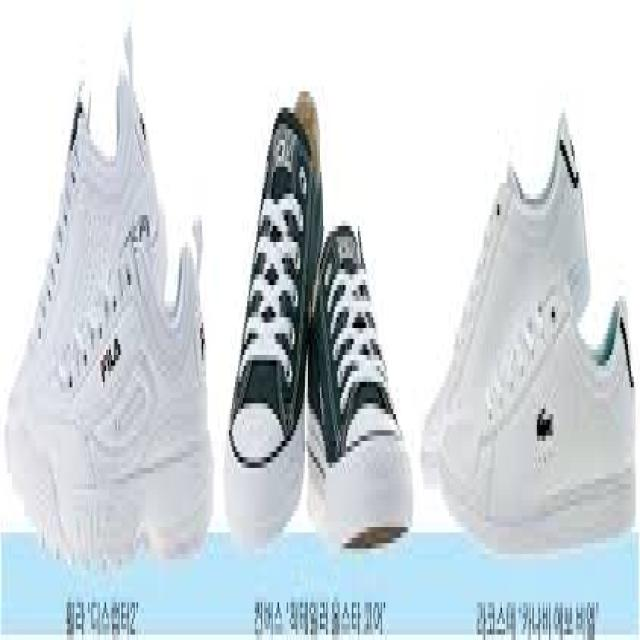shoes: (8, 81, 169, 475), (425, 140, 589, 462), (47, 243, 211, 554), (455, 312, 638, 540), (222, 108, 320, 530), (306, 220, 413, 544)
